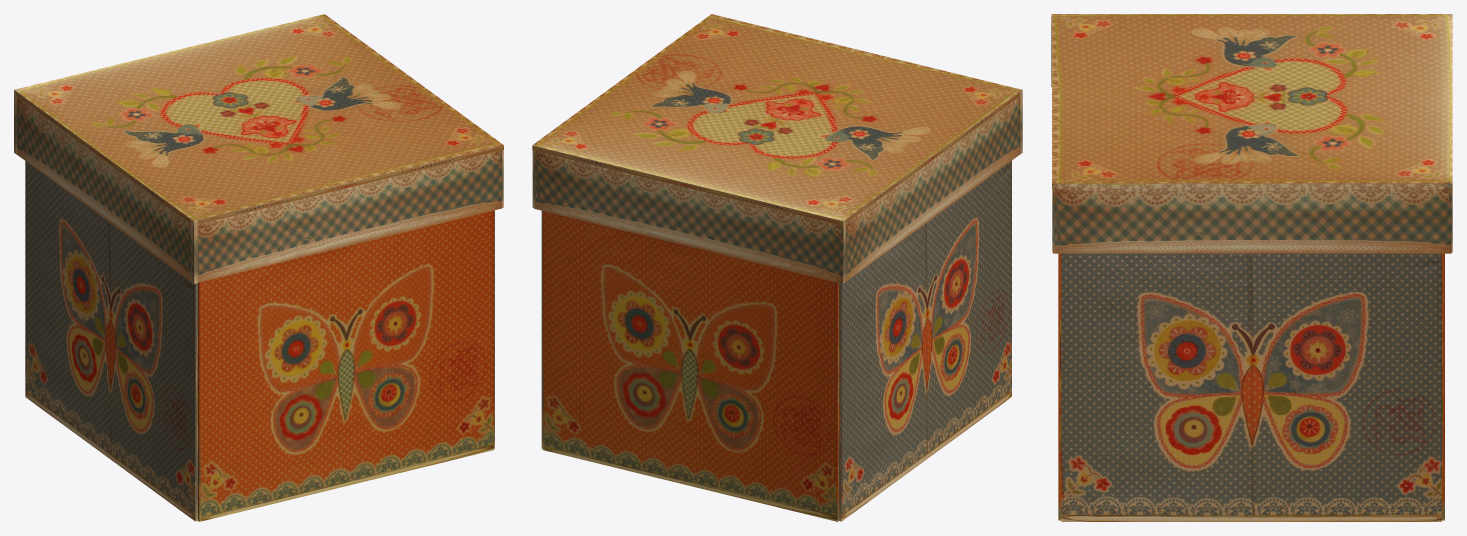
File: toy-box.obj
The picture shows the model from 3 angles, left to right: view 1: azimuth 30°, elevation 25°; view 2: azimuth 150°, elevation 25°; view 3: azimuth 270°, elevation 25°; orthographic projection. The views are drawn at different scales.
Parts seen in each view (by area): view 1: Box, Box6, Box2, Box8, Box5; view 2: Box1, Box6, Box2, Box9, Box5; view 3: Box3, Box6, Box7, Box, Box1.
Boxes of the visible parts, x1,y1,x2,y2 form: Box: (198, 210, 494, 521); Box6: (14, 14, 503, 225); Box2: (25, 161, 197, 521); Box8: (190, 150, 501, 283); Box5: (17, 97, 198, 283); Box1: (542, 211, 838, 521); Box6: (532, 14, 1022, 225); Box2: (839, 160, 1011, 521); Box9: (534, 151, 845, 283); Box5: (846, 88, 1021, 281); Box3: (1061, 253, 1441, 521); Box6: (1052, 14, 1452, 188); Box7: (1053, 183, 1451, 253); Box: (1058, 253, 1061, 520); Box1: (1442, 253, 1444, 520).
Size of the model in its own units: 3.37 by 3.16 by 3.38.
Materials: 5 (4 with a texture image).
